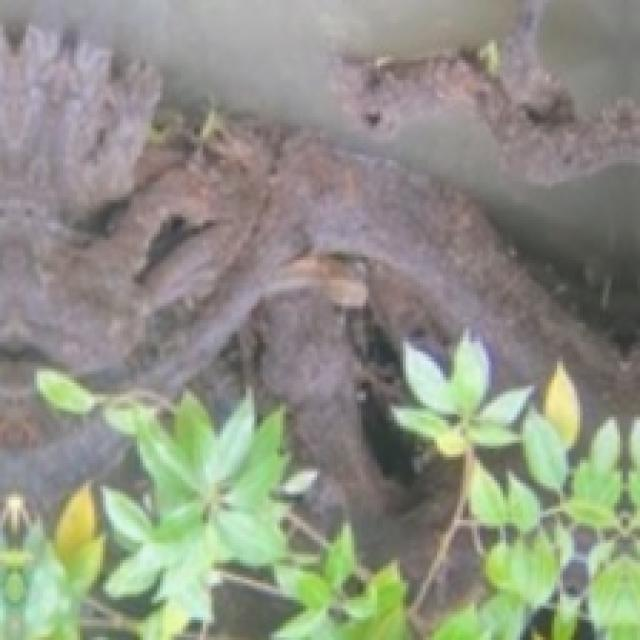king cobra: (0, 26, 637, 637), (337, 3, 637, 189), (389, 326, 506, 460)
